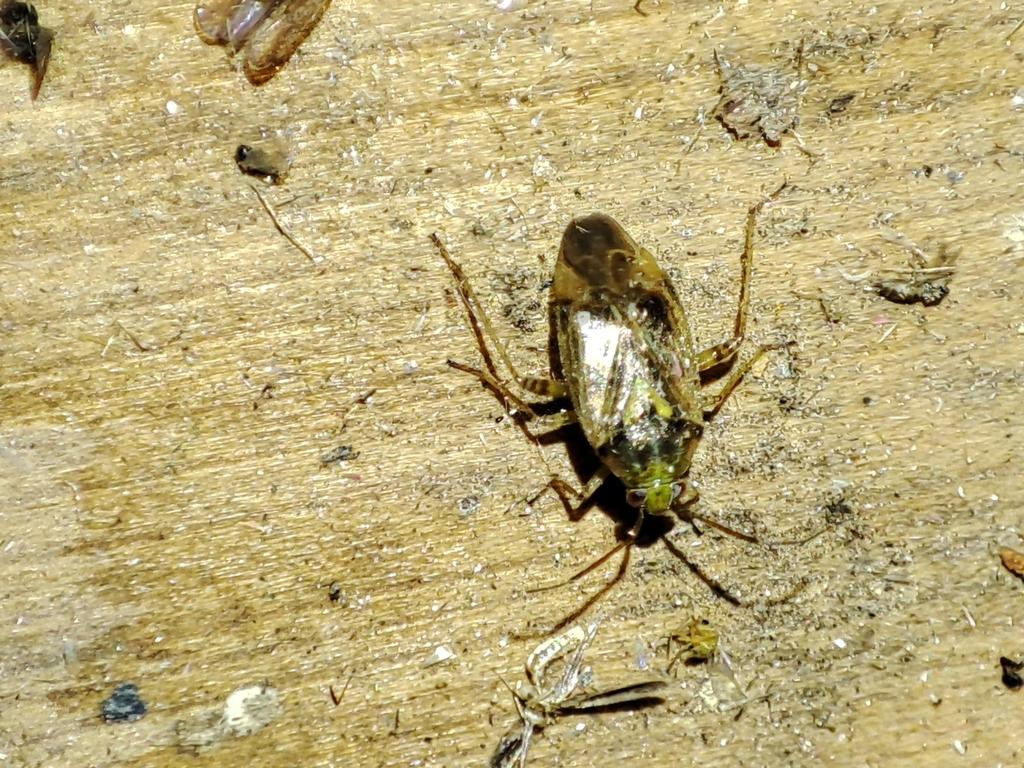plant_bugs: (384, 155, 864, 661)
